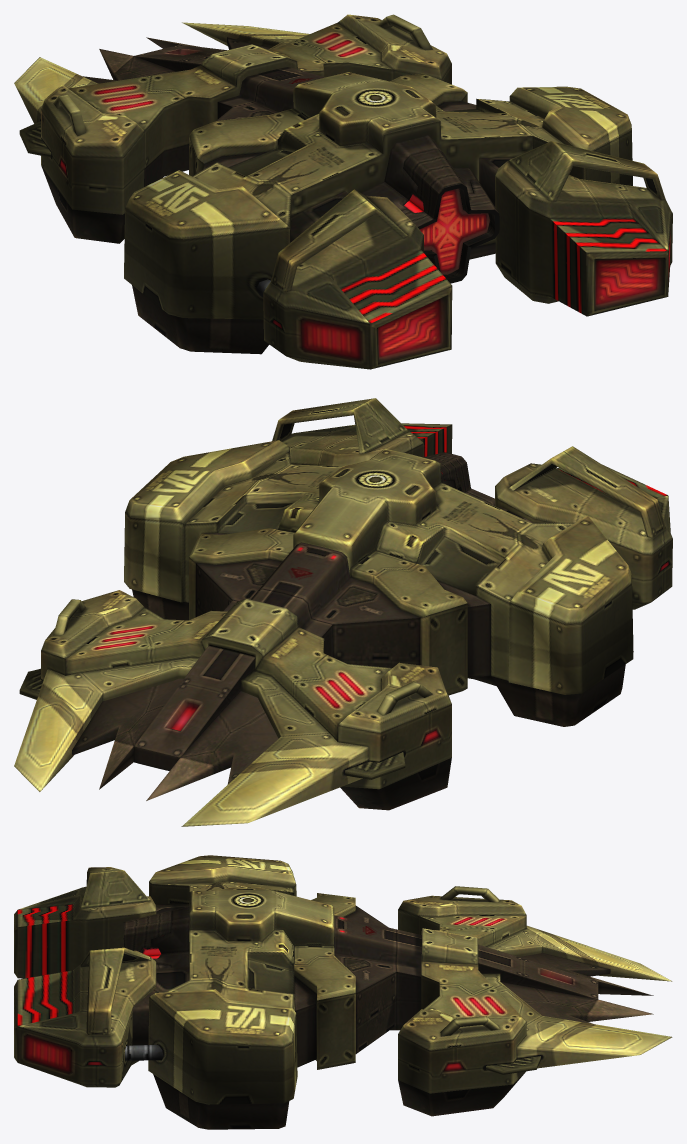
3 views of the same model, one above another, from view 1: azimuth 30°, elevation 25°; view 2: azimuth 150°, elevation 25°; view 3: azimuth 270°, elevation 25° (orthographic). The views are drawn at different scales.
Parts seen in each view (by area): view 1: Duplicate02; view 2: Duplicate02; view 3: Duplicate02.
Part boxes in pixels (left/top/right/bottom): Duplicate02: left=14, top=14, right=672, bottom=369; Duplicate02: left=14, top=398, right=672, bottom=826; Duplicate02: left=14, top=855, right=672, bottom=1129.
Bounding box in the file's own units: 20.79 × 7.64 × 31.86.
1 material, 1 textured.
